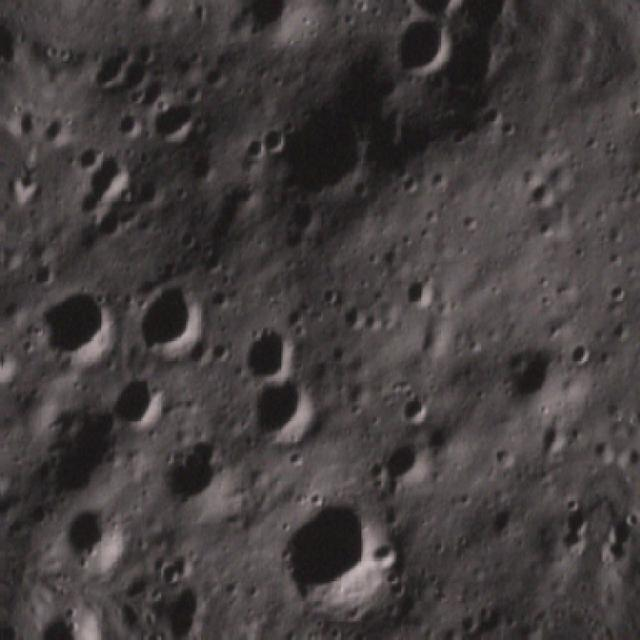crater: (259, 478, 403, 632), (263, 89, 385, 214), (227, 356, 339, 459), (27, 271, 127, 384), (120, 267, 222, 376), (146, 429, 252, 526), (45, 491, 137, 587), (220, 304, 312, 398), (488, 331, 575, 429), (426, 21, 514, 113), (72, 138, 146, 239), (208, 0, 308, 62), (100, 363, 174, 443), (378, 10, 454, 87), (376, 432, 435, 498), (144, 95, 202, 156), (517, 169, 575, 226), (543, 497, 597, 554), (471, 97, 526, 145), (388, 383, 434, 439), (100, 101, 152, 150), (252, 112, 296, 162), (0, 332, 28, 400), (400, 273, 440, 319), (335, 293, 374, 338), (65, 138, 106, 178), (229, 131, 268, 171), (37, 112, 74, 152), (128, 0, 174, 29), (558, 338, 594, 374), (0, 449, 5, 523), (462, 635, 529, 640)
